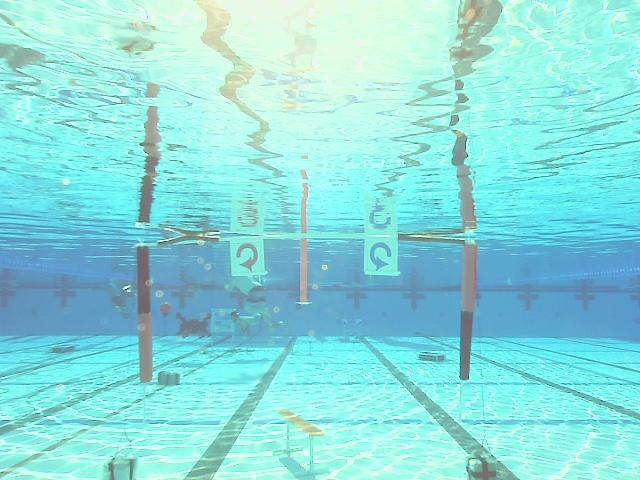buoy: (160, 302, 171, 317)
dropper: (418, 347, 449, 362), (50, 341, 80, 355)
gate: (137, 236, 478, 384)
gate_blue: (364, 238, 398, 272)
gate_leg_l: (137, 246, 152, 383)
gate_leg_r: (459, 244, 478, 380)
gate_red: (230, 238, 265, 273)
table: (338, 318, 367, 343)
